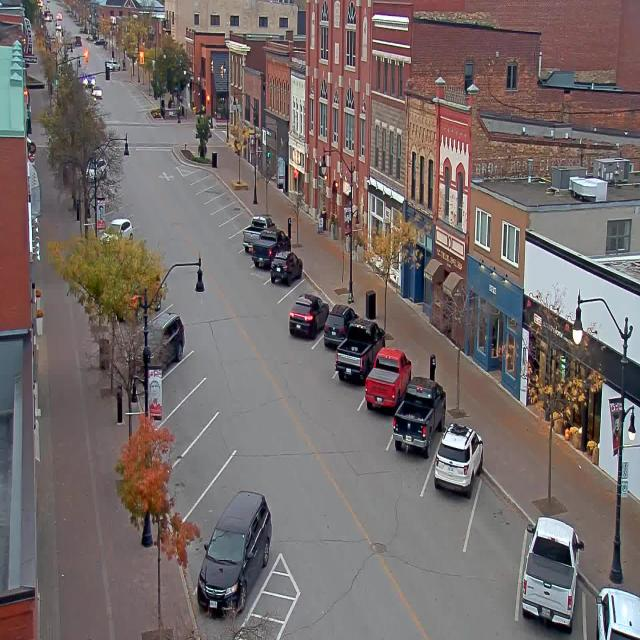available: (466, 476, 530, 569), (214, 438, 253, 499), (203, 409, 241, 466), (184, 371, 222, 426), (174, 340, 207, 395), (277, 270, 311, 307), (224, 211, 242, 239), (200, 180, 218, 205), (216, 202, 232, 227), (208, 190, 223, 214), (194, 170, 208, 194), (186, 164, 200, 187)
occupied: (196, 489, 272, 617), (521, 515, 584, 632), (392, 375, 446, 458), (434, 421, 483, 497), (334, 316, 386, 384), (364, 346, 412, 413), (595, 586, 640, 639), (143, 309, 185, 364), (288, 292, 329, 339), (323, 302, 359, 348), (249, 228, 291, 266), (242, 209, 272, 249), (270, 250, 302, 285)
